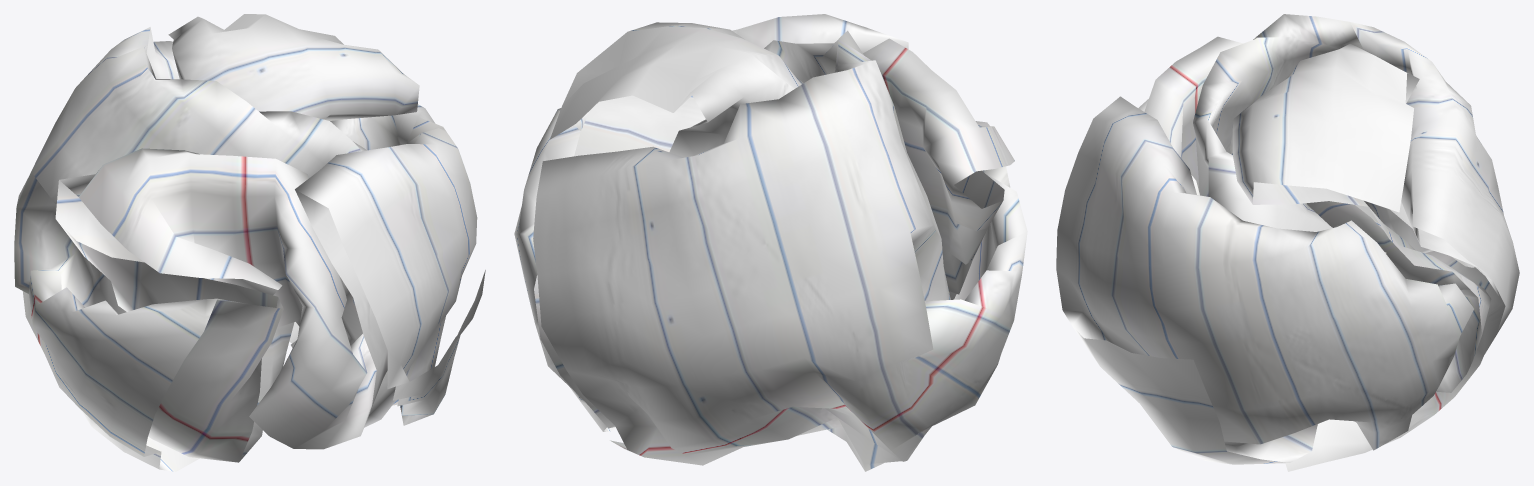
Rendered from crumpled-paper.glb.
The picture shows the model from 3 angles, left to right: view 1: azimuth 30°, elevation 25°; view 2: azimuth 150°, elevation 25°; view 3: azimuth 270°, elevation 25°; orthographic projection. The views are drawn at different scales.
Visible parts, largest first — view 1: Plane; view 2: Plane; view 3: Plane.
Part boxes in pixels (x1,y1,x2,y2): Plane: [14, 14, 485, 471]; Plane: [514, 14, 1027, 471]; Plane: [1056, 14, 1519, 471].
Size of the model in its own units: 0.7005 by 0.6443 by 0.7149.
Materials: 1 (1 with a texture image).
